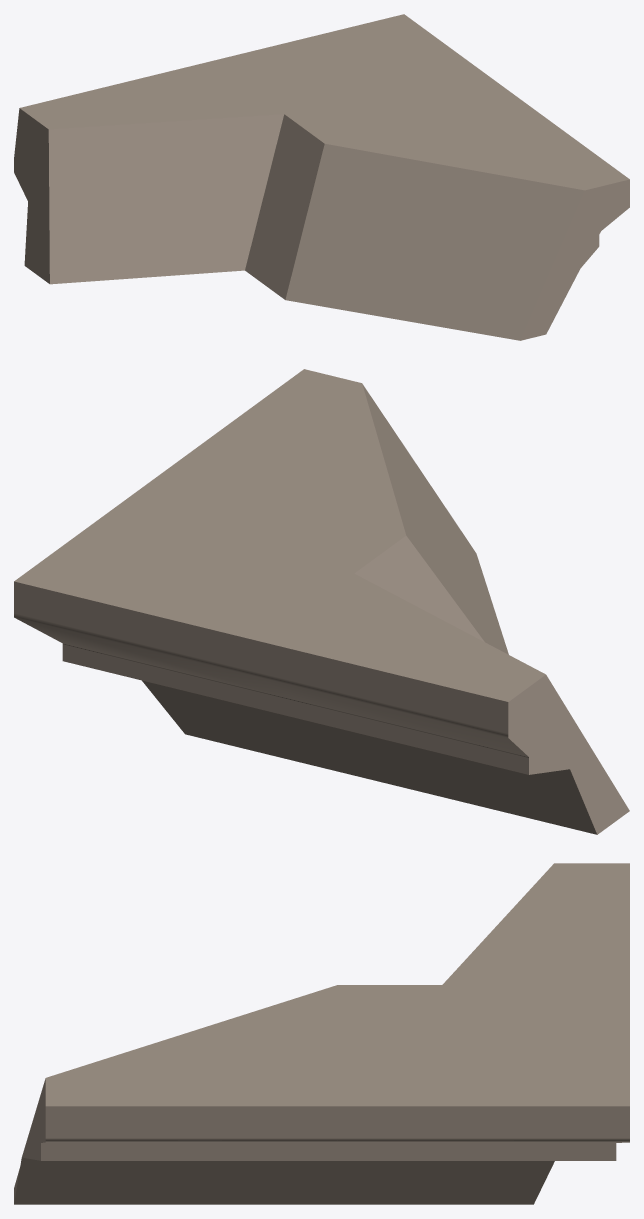
File: Front_left_edge_broken_balcony_1.fbx
3 renders of one model, top to bottom at view 1: azimuth 30°, elevation 25°; view 2: azimuth 150°, elevation 25°; view 3: azimuth 270°, elevation 25°, orthographic. The views are drawn at different scales.
Visible parts, largest first — view 1: polySurface606; view 2: polySurface606; view 3: polySurface606.
Boxes of the visible parts, bbox=[...] form: polySurface606: bbox=[14, 14, 629, 340]; polySurface606: bbox=[14, 369, 629, 834]; polySurface606: bbox=[14, 863, 629, 1204].
Bounding box in the file's own units: 1.83 × 0.5154 × 1.81.
